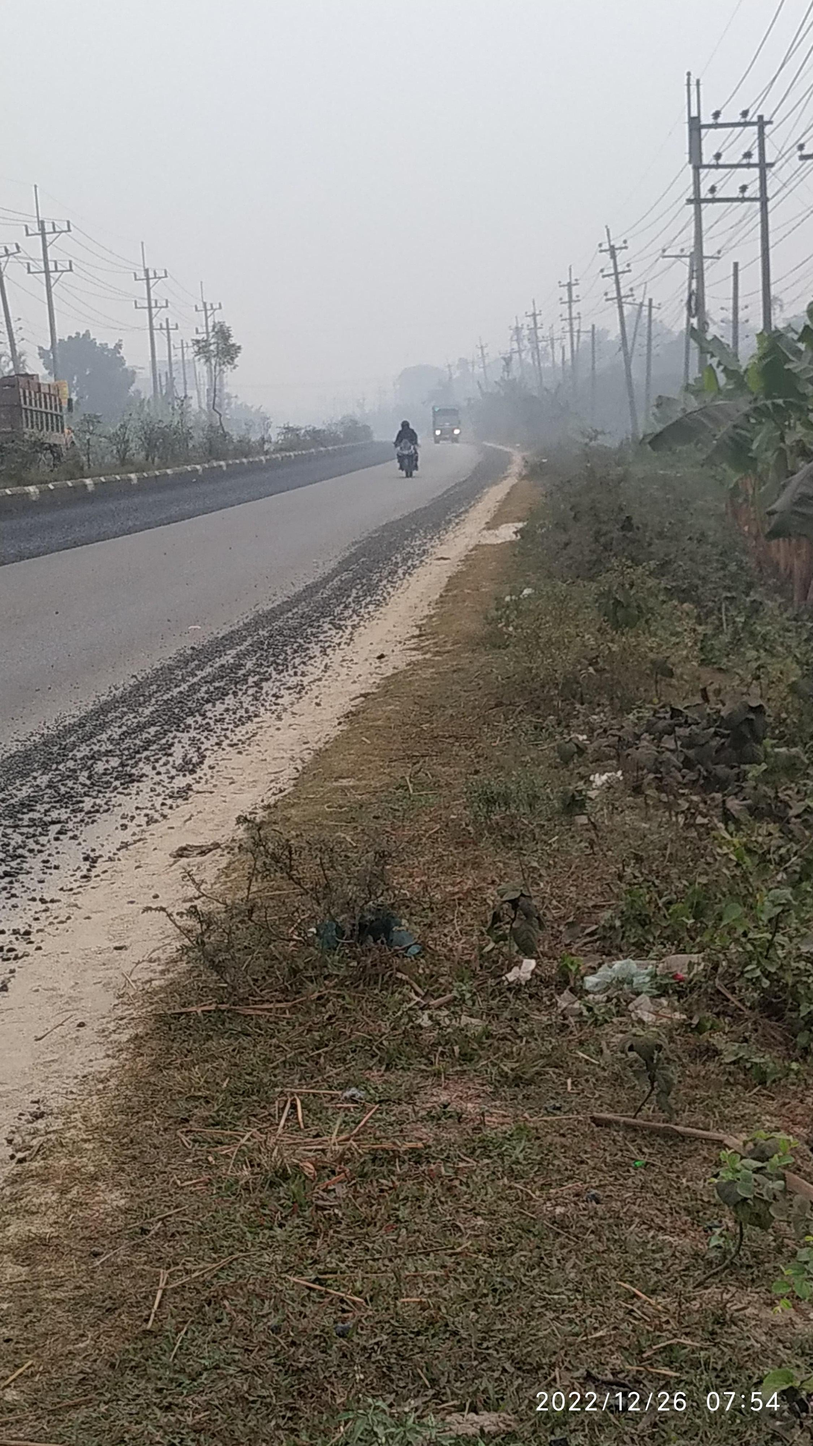Bike: (385, 414, 436, 499)
Truck: (423, 401, 480, 465)
